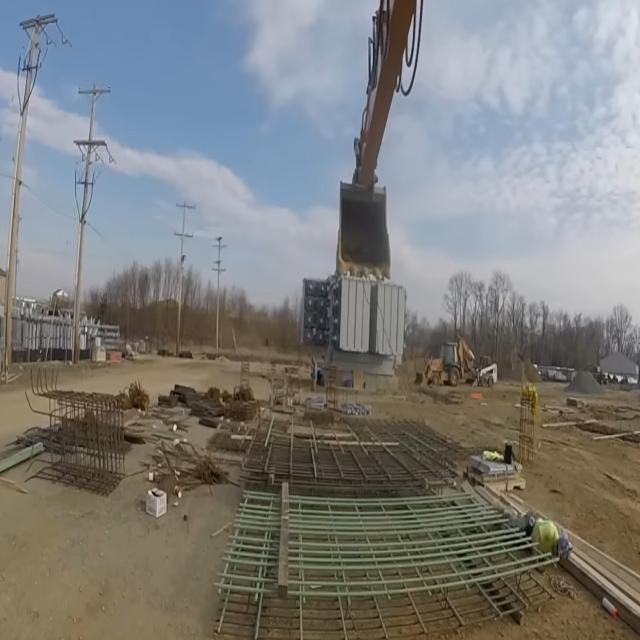fallen: (510, 509, 572, 559)
